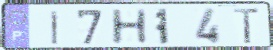1: (154, 7, 172, 47)
4: (193, 7, 223, 46)
7: (75, 9, 104, 47)
H: (108, 8, 150, 47)
I: (49, 9, 61, 46)
T: (232, 7, 262, 45)
